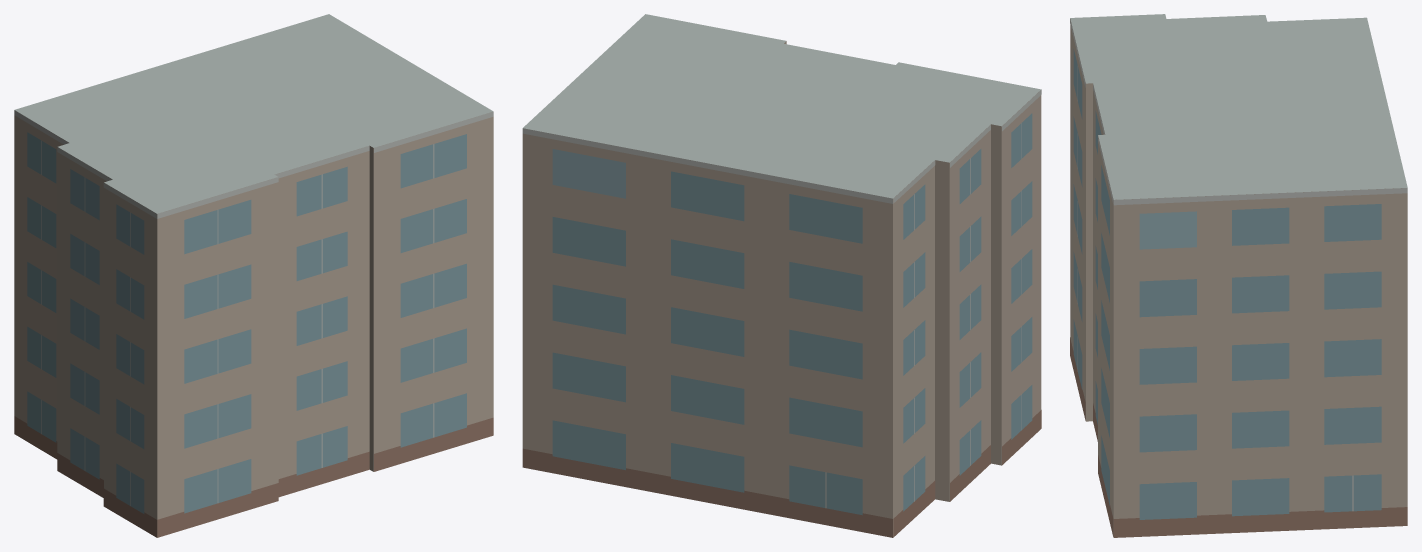
The model's file is survey-upis-32654466.glb.
The picture shows the model from 3 angles, left to right: view 1: azimuth 30°, elevation 25°; view 2: azimuth 150°, elevation 25°; view 3: azimuth 270°, elevation 25°; orthographic projection. The views are drawn at different scales.
Visible parts, largest first — view 1: survey-upis-32654466.tmp; view 2: survey-upis-32654466.tmp; view 3: survey-upis-32654466.tmp.
Part boxes in pixels (box(x1,y1,x2,y2)): survey-upis-32654466.tmp: box(14, 14, 493, 537); survey-upis-32654466.tmp: box(522, 14, 1041, 537); survey-upis-32654466.tmp: box(1070, 14, 1407, 537).
Bounding box in the file's own units: 17.99 × 15.25 × 13.81.
